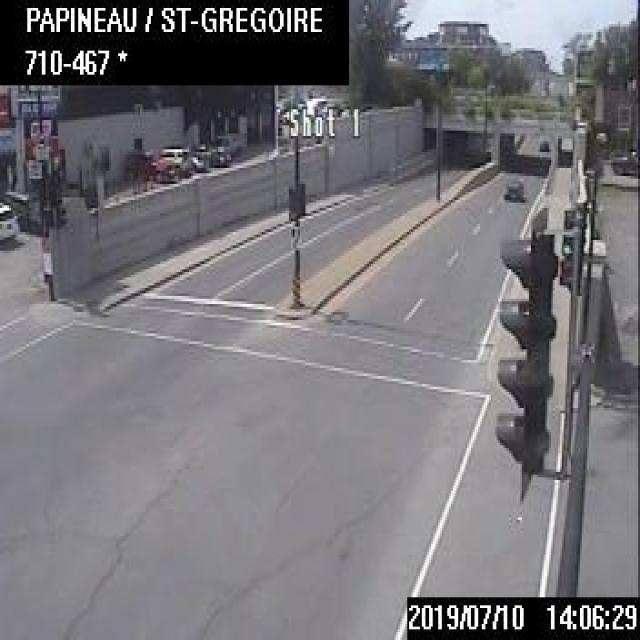vehicle: (0, 199, 20, 249), (152, 142, 192, 166), (502, 174, 524, 198), (468, 147, 488, 168), (536, 136, 549, 149)
